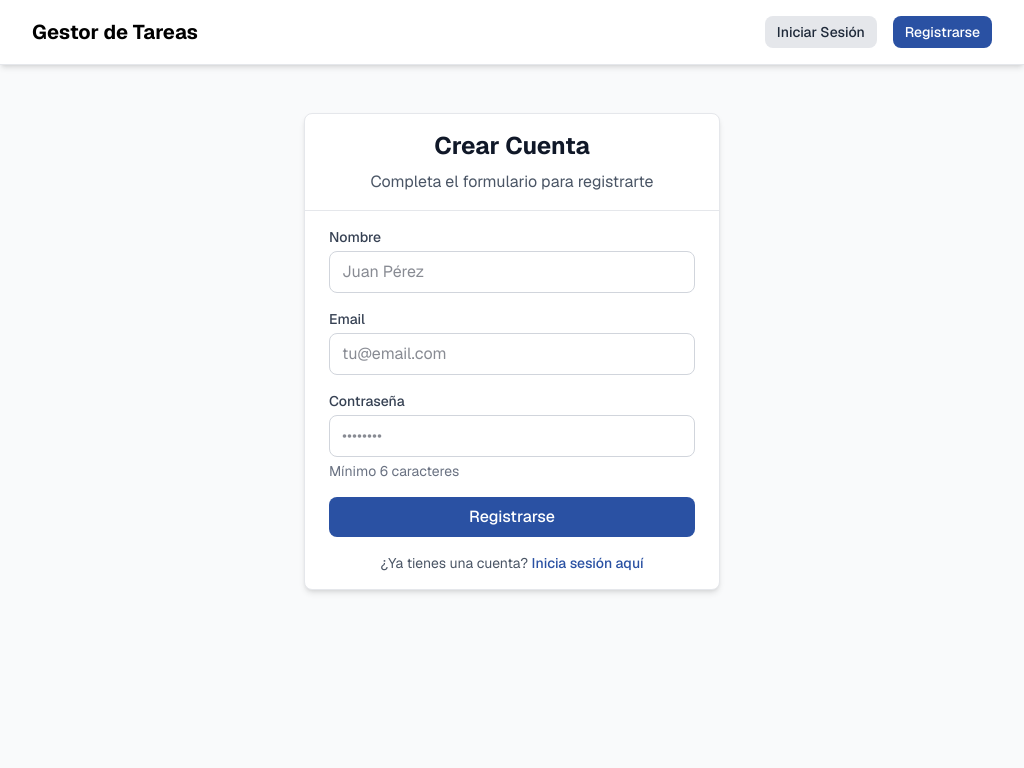
Test case: RegisterPage › valida nombre muy corto
Type "J" into the field with placeholder "Juan Pérez".
click(512, 272); type("J")  # box [329,251,695,293]
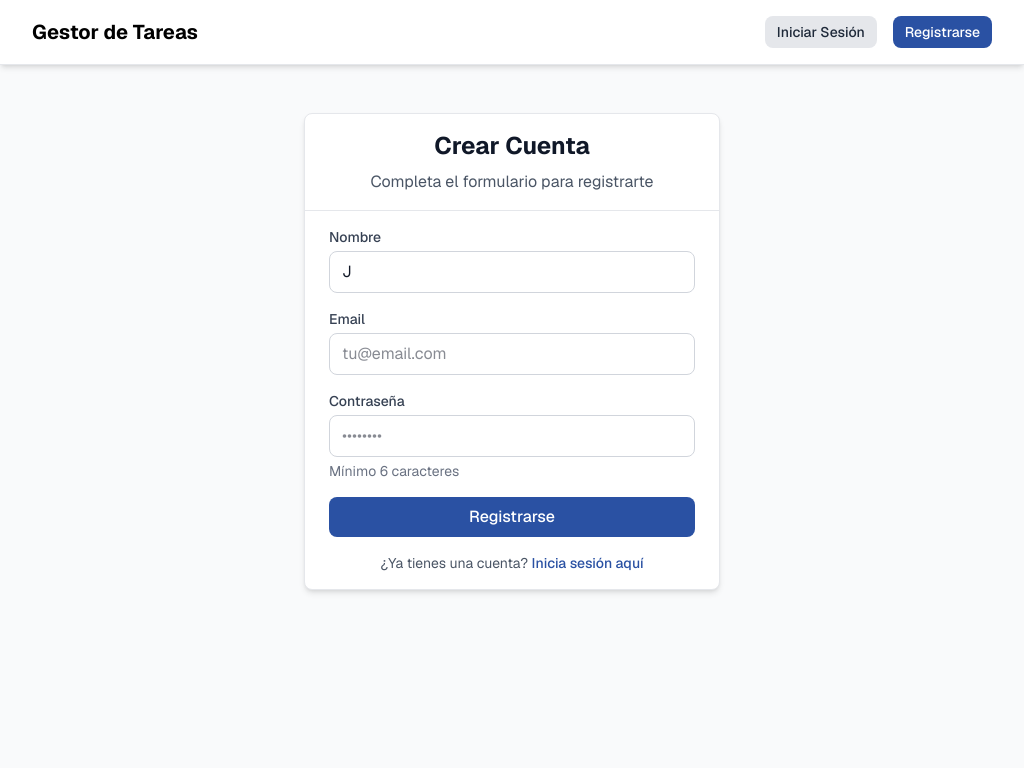
Click the button "Registrarse" below "Mínimo 6 caracteres".
click(512, 517)  # box [329,497,695,537]
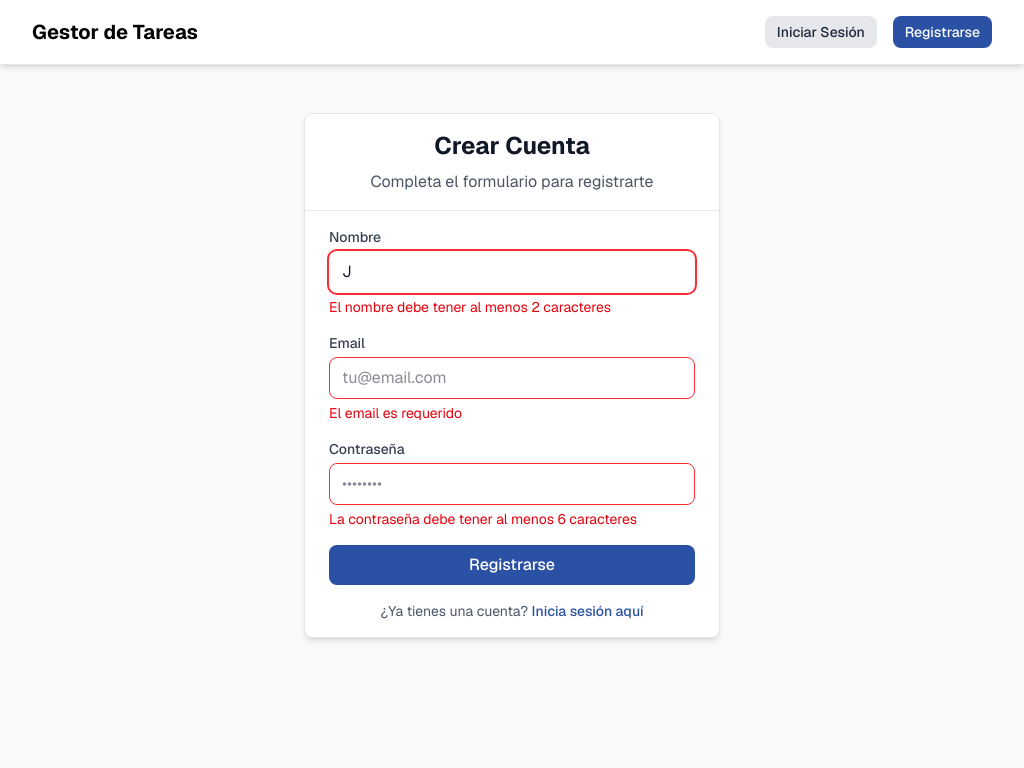
Check: the text "El nombre debe tener al menos 2 caracteres" is shown, box [329,298,611,316]
